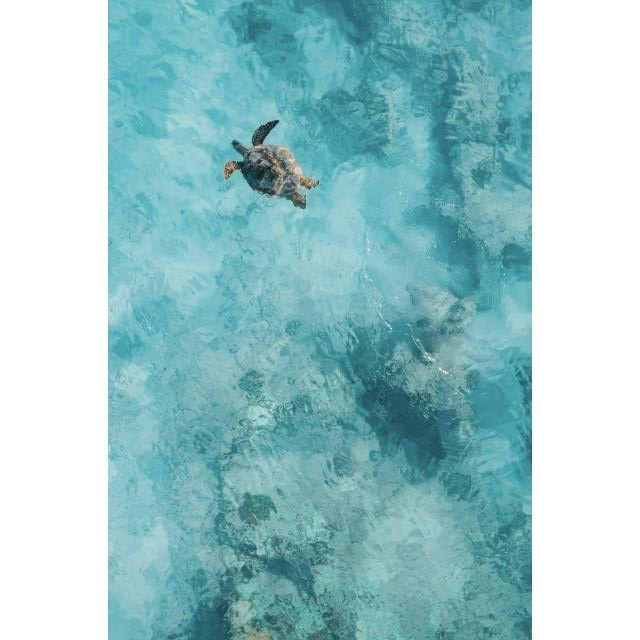turtle: (220, 120, 320, 209)
